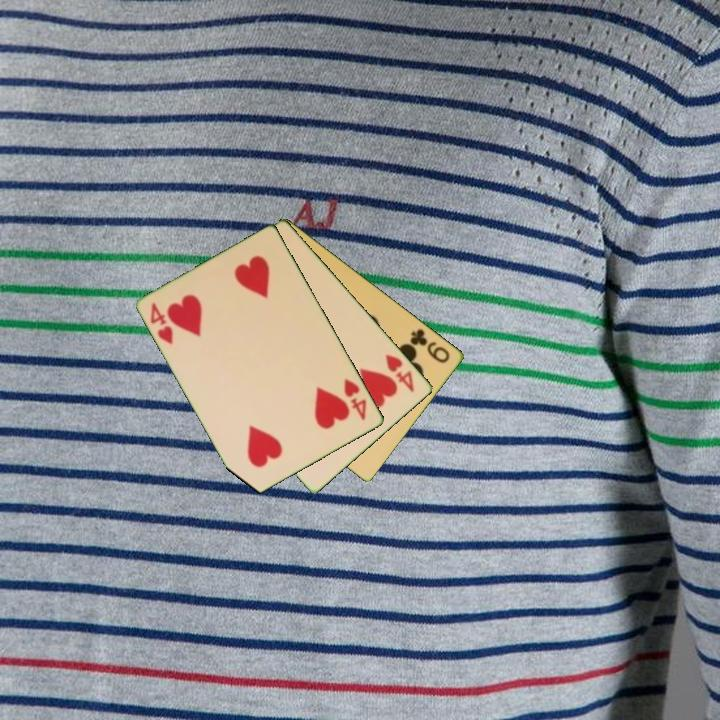4h: (382, 350, 417, 395), (341, 375, 370, 424), (147, 299, 176, 347)
9c: (407, 325, 453, 366)
